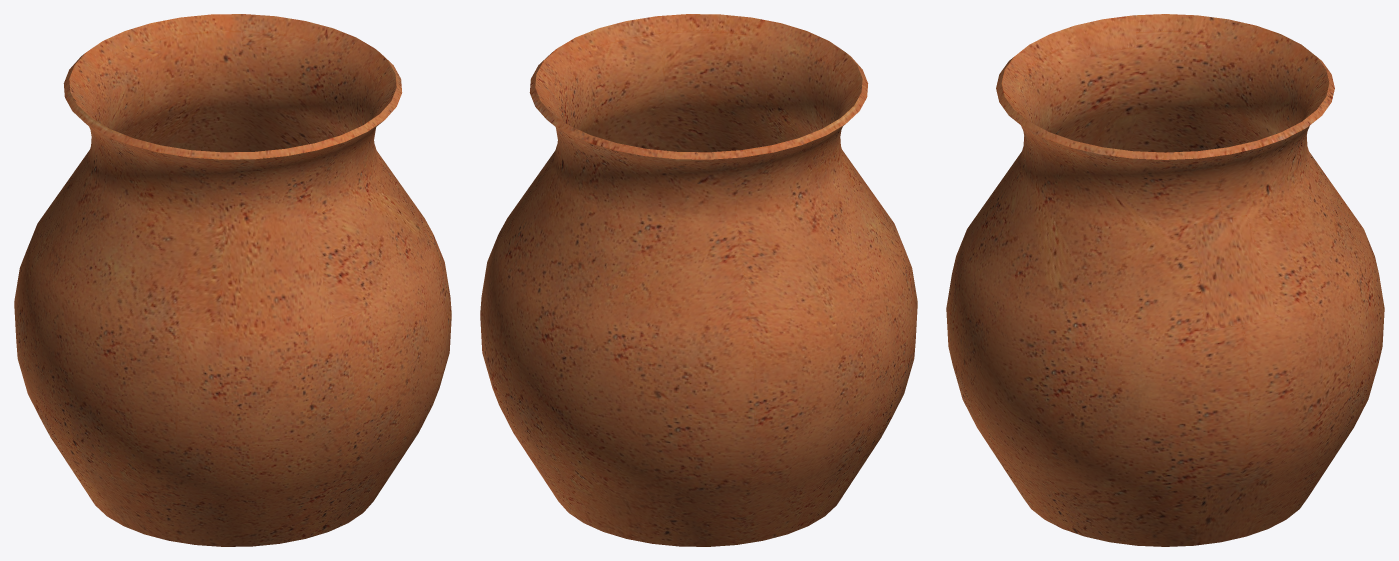
Rendered from clay_pot.glb.
The picture shows the model from 3 angles, left to right: view 1: azimuth 30°, elevation 25°; view 2: azimuth 150°, elevation 25°; view 3: azimuth 270°, elevation 25°; orthographic projection.
Visible parts, largest first — view 1: Circle; view 2: Circle; view 3: Circle.
Part boxes in pixels (bbox=[...]): Circle: bbox=[14, 14, 451, 546]; Circle: bbox=[480, 14, 917, 546]; Circle: bbox=[946, 14, 1384, 546].
Bounding box in the file's own units: 77.79 × 78.77 × 77.79.
Materials: 1 (1 with a texture image).
